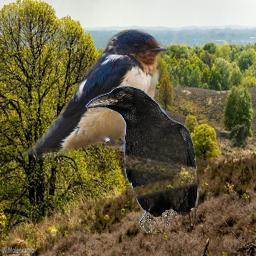Crow: (85, 85, 200, 233)
Swallow: (22, 28, 170, 158)
